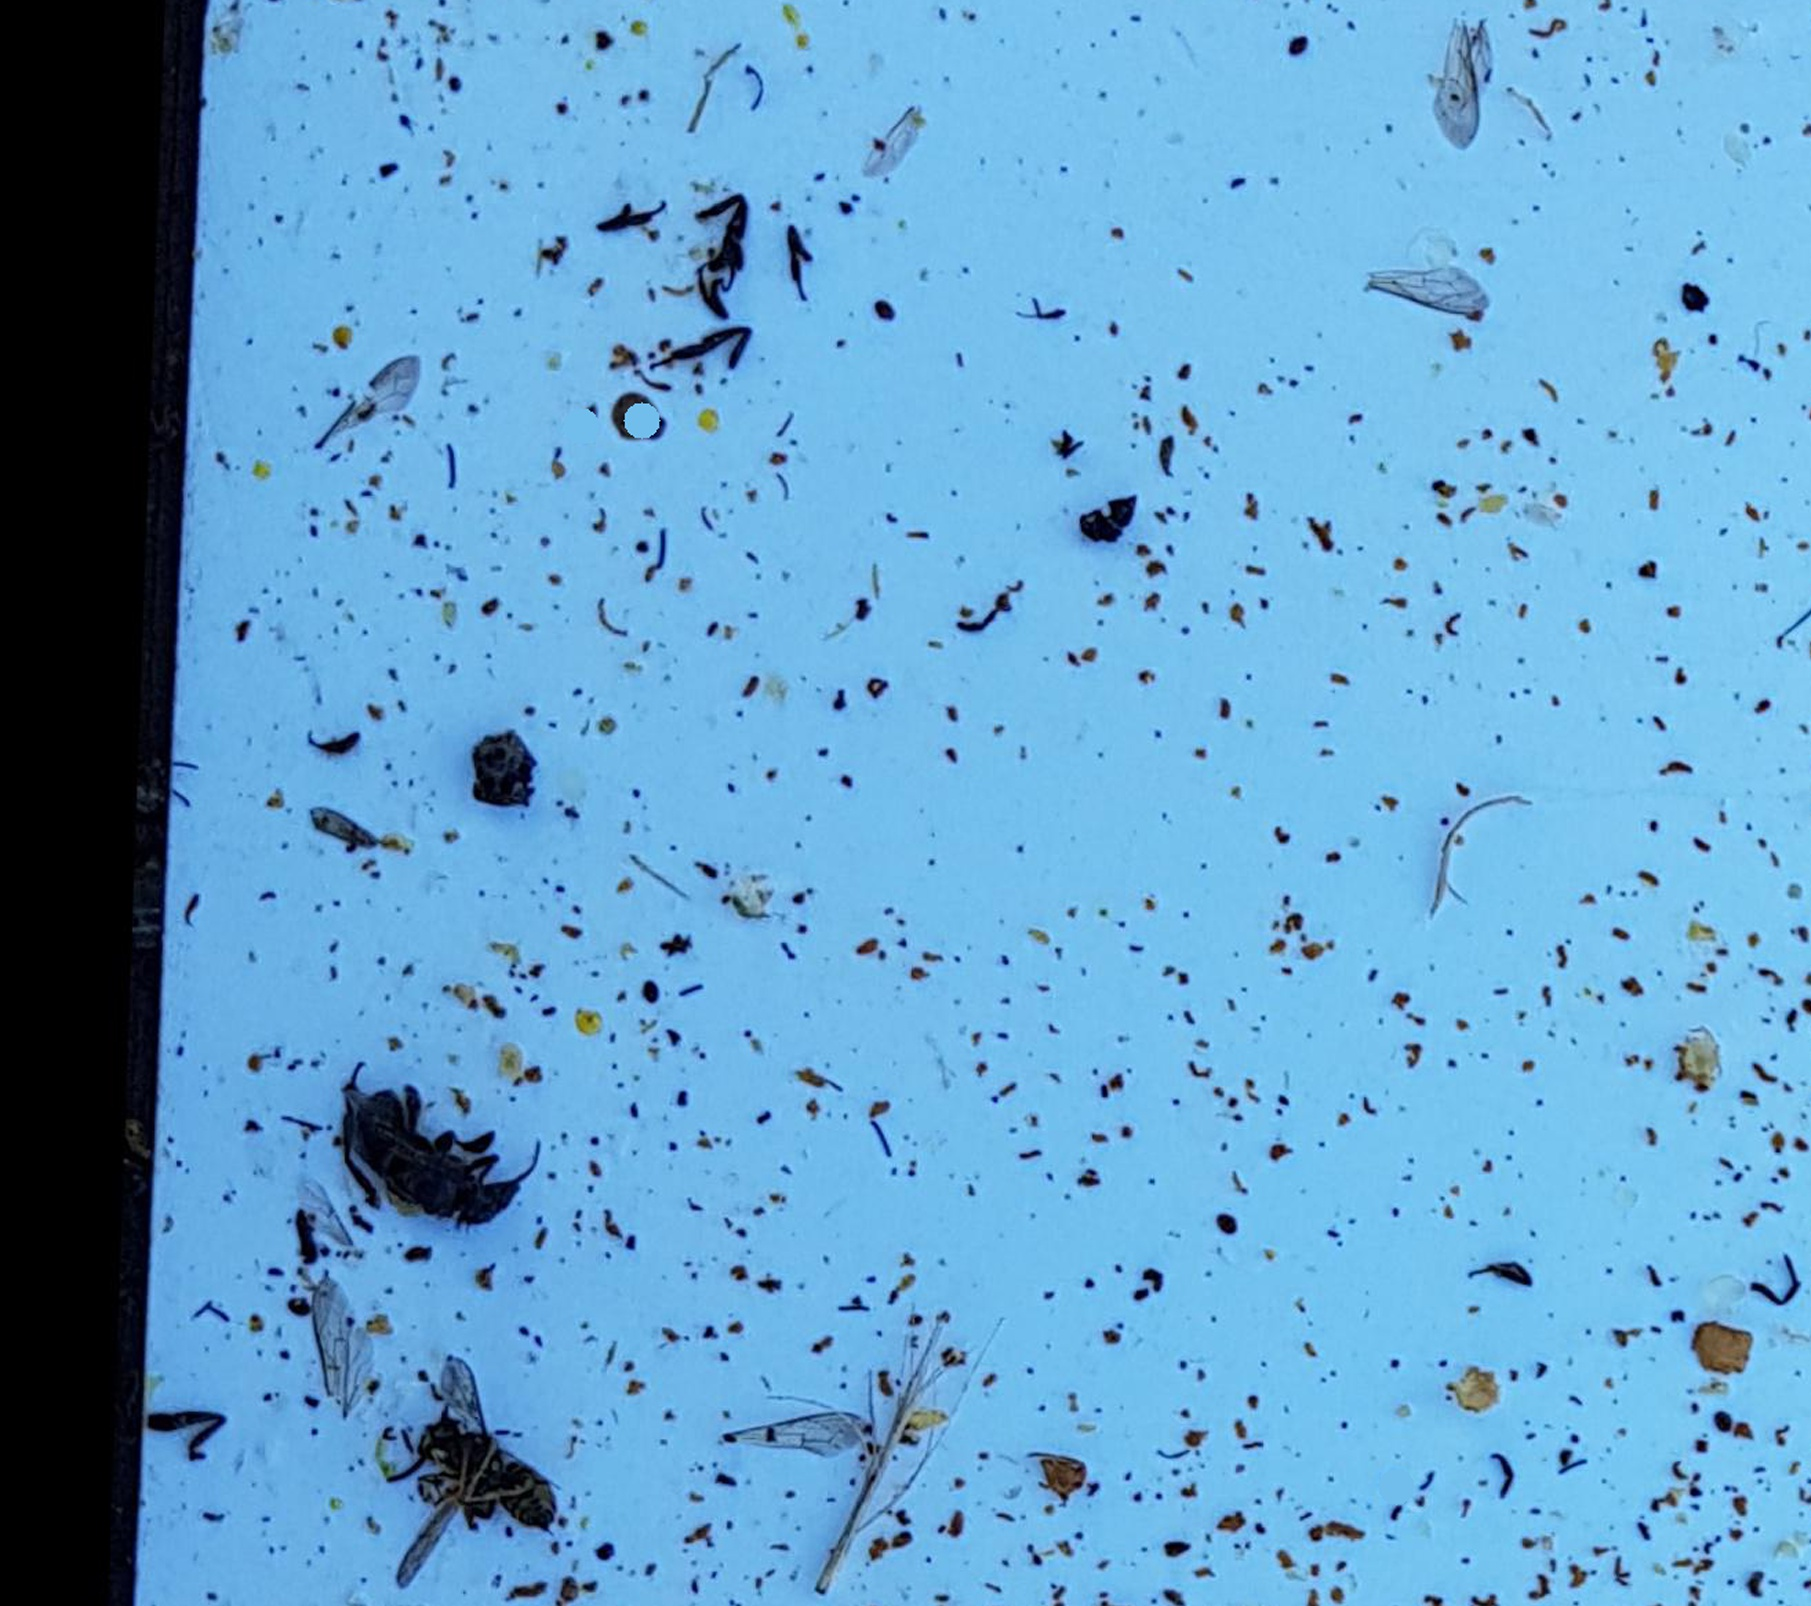Varroa: (1706, 1404, 1740, 1439), (871, 295, 899, 333), (1278, 29, 1309, 60), (1211, 1212, 1240, 1242), (637, 974, 665, 1005), (288, 1296, 313, 1325)
